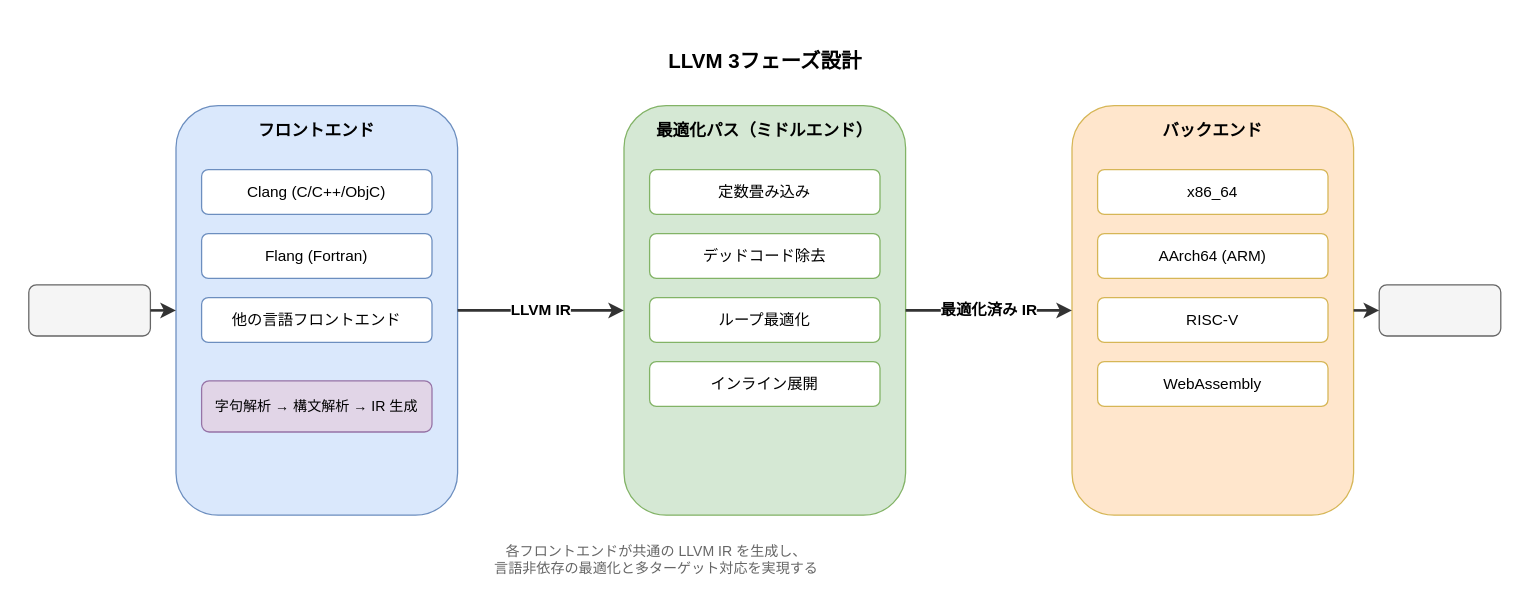
Some shapes in this 1528 by 607 pixel diagram are drawn without their labels. Each missing label, with the centre of its shape:
ソースコード: point 89,310
マシンコード: point 1439,310
